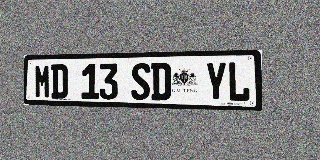1: (81, 64, 99, 99)
3: (99, 63, 117, 100)
D: (151, 63, 171, 101), (51, 64, 68, 99)
L: (227, 61, 250, 102)
M: (34, 64, 50, 98)
S: (131, 63, 150, 100)
Y: (205, 62, 227, 101)
